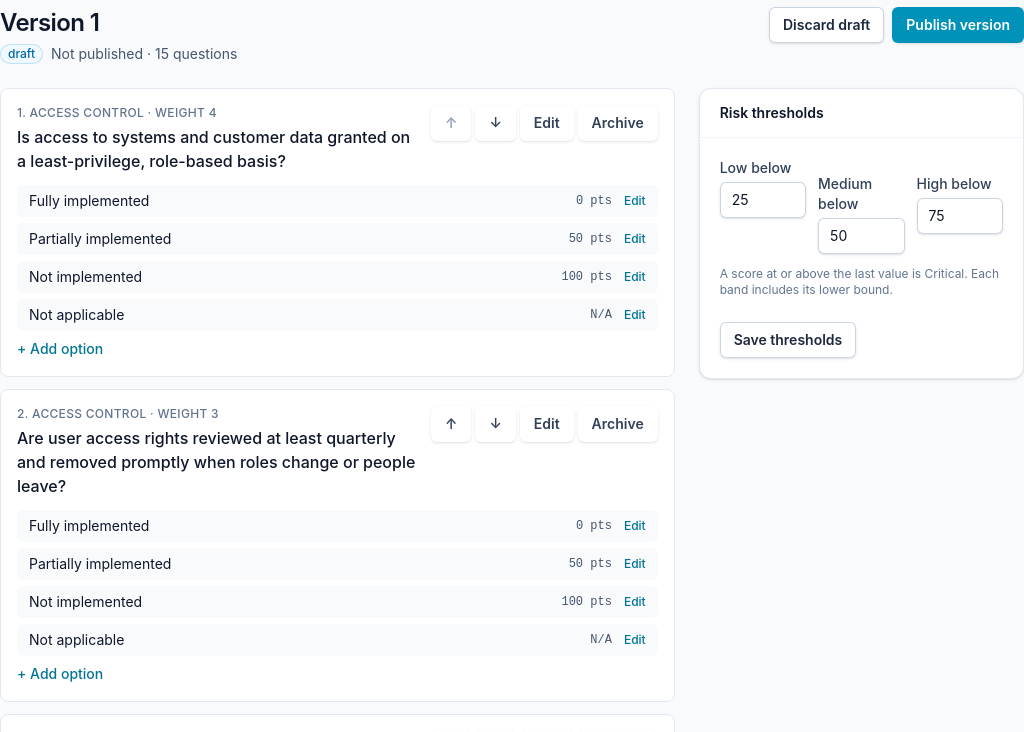
Test: Draft editor › archives and restores a question
Expected: the heading "Version 1" is shown, x1=0 y1=8 x2=99 y2=37
What coordinates should you click on to do the following:
click the button with aria-label "Archive question 1"
I would click on:
 (618, 123)
Its box is x1=578 y1=105 x2=658 y2=141.
(page scrolled)
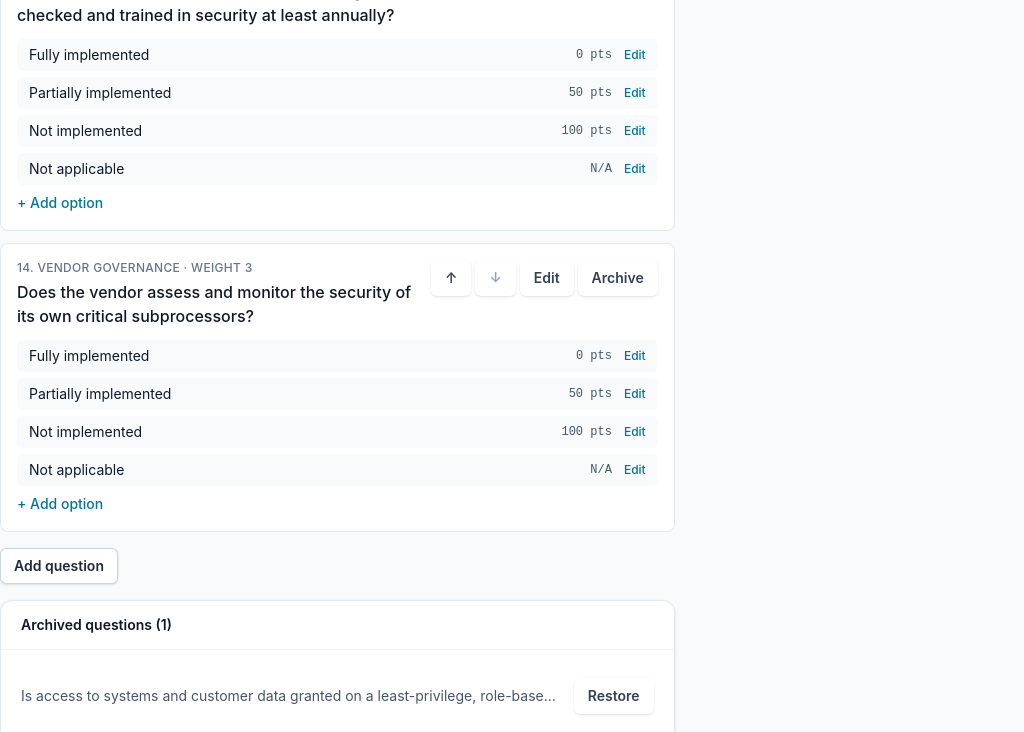
Expected: the text "least-privilege" is shown, x1=21 y1=687 x2=598 y2=704
What coordinates should you click on to do the following:
click the button "Restore"
I would click on:
 (614, 696)
Its box is x1=574 y1=678 x2=654 y2=714.
(page scrolled)
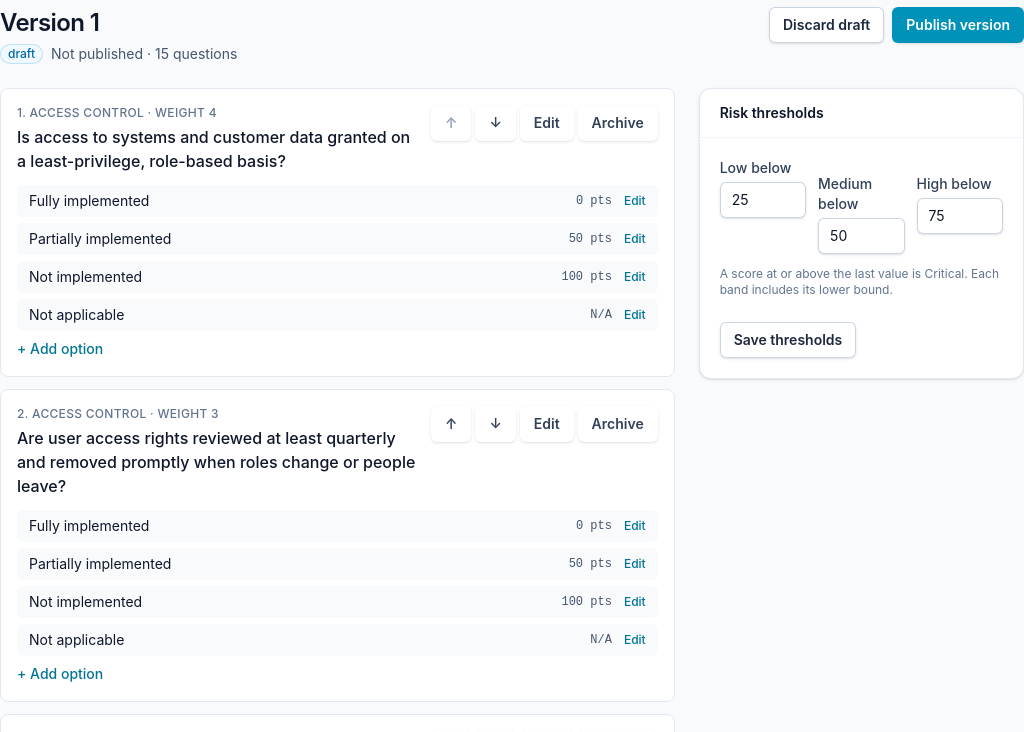
Now the text "draft Not published · 15 questions" is shown, box x1=0 y1=44 x2=237 y2=64
